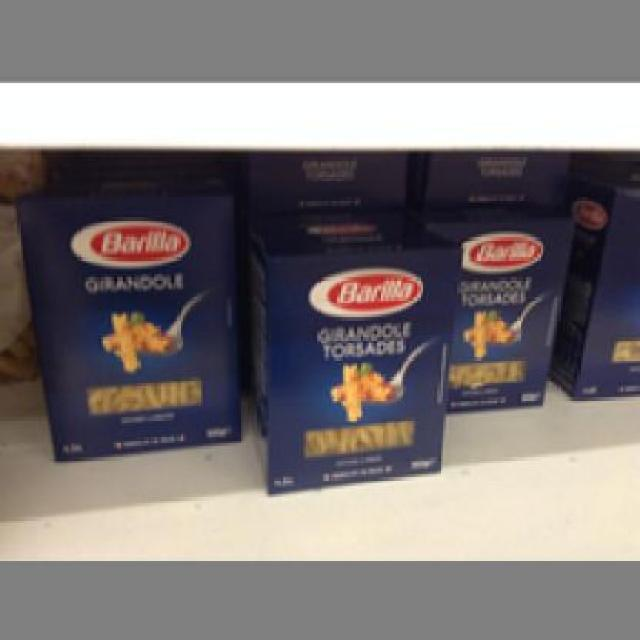Pasta: (14, 177, 237, 460), (248, 215, 462, 494), (428, 208, 574, 412)
